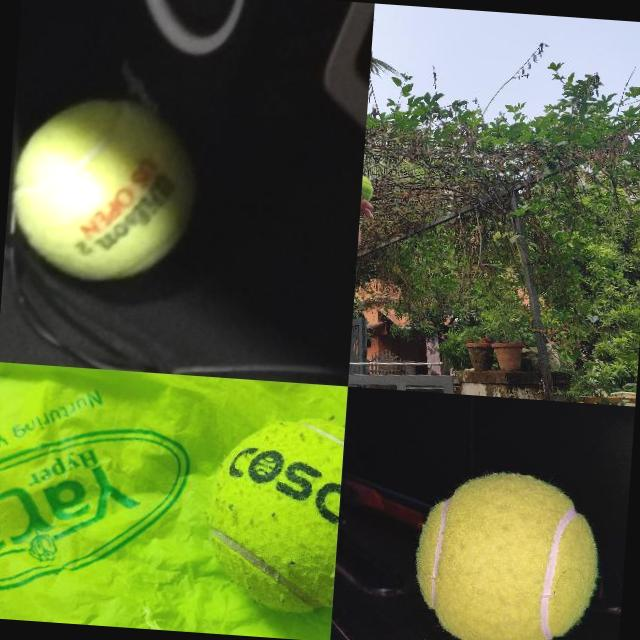Tennis Ball: (6, 90, 201, 288), (407, 467, 603, 640), (197, 409, 344, 616), (360, 174, 375, 208)
